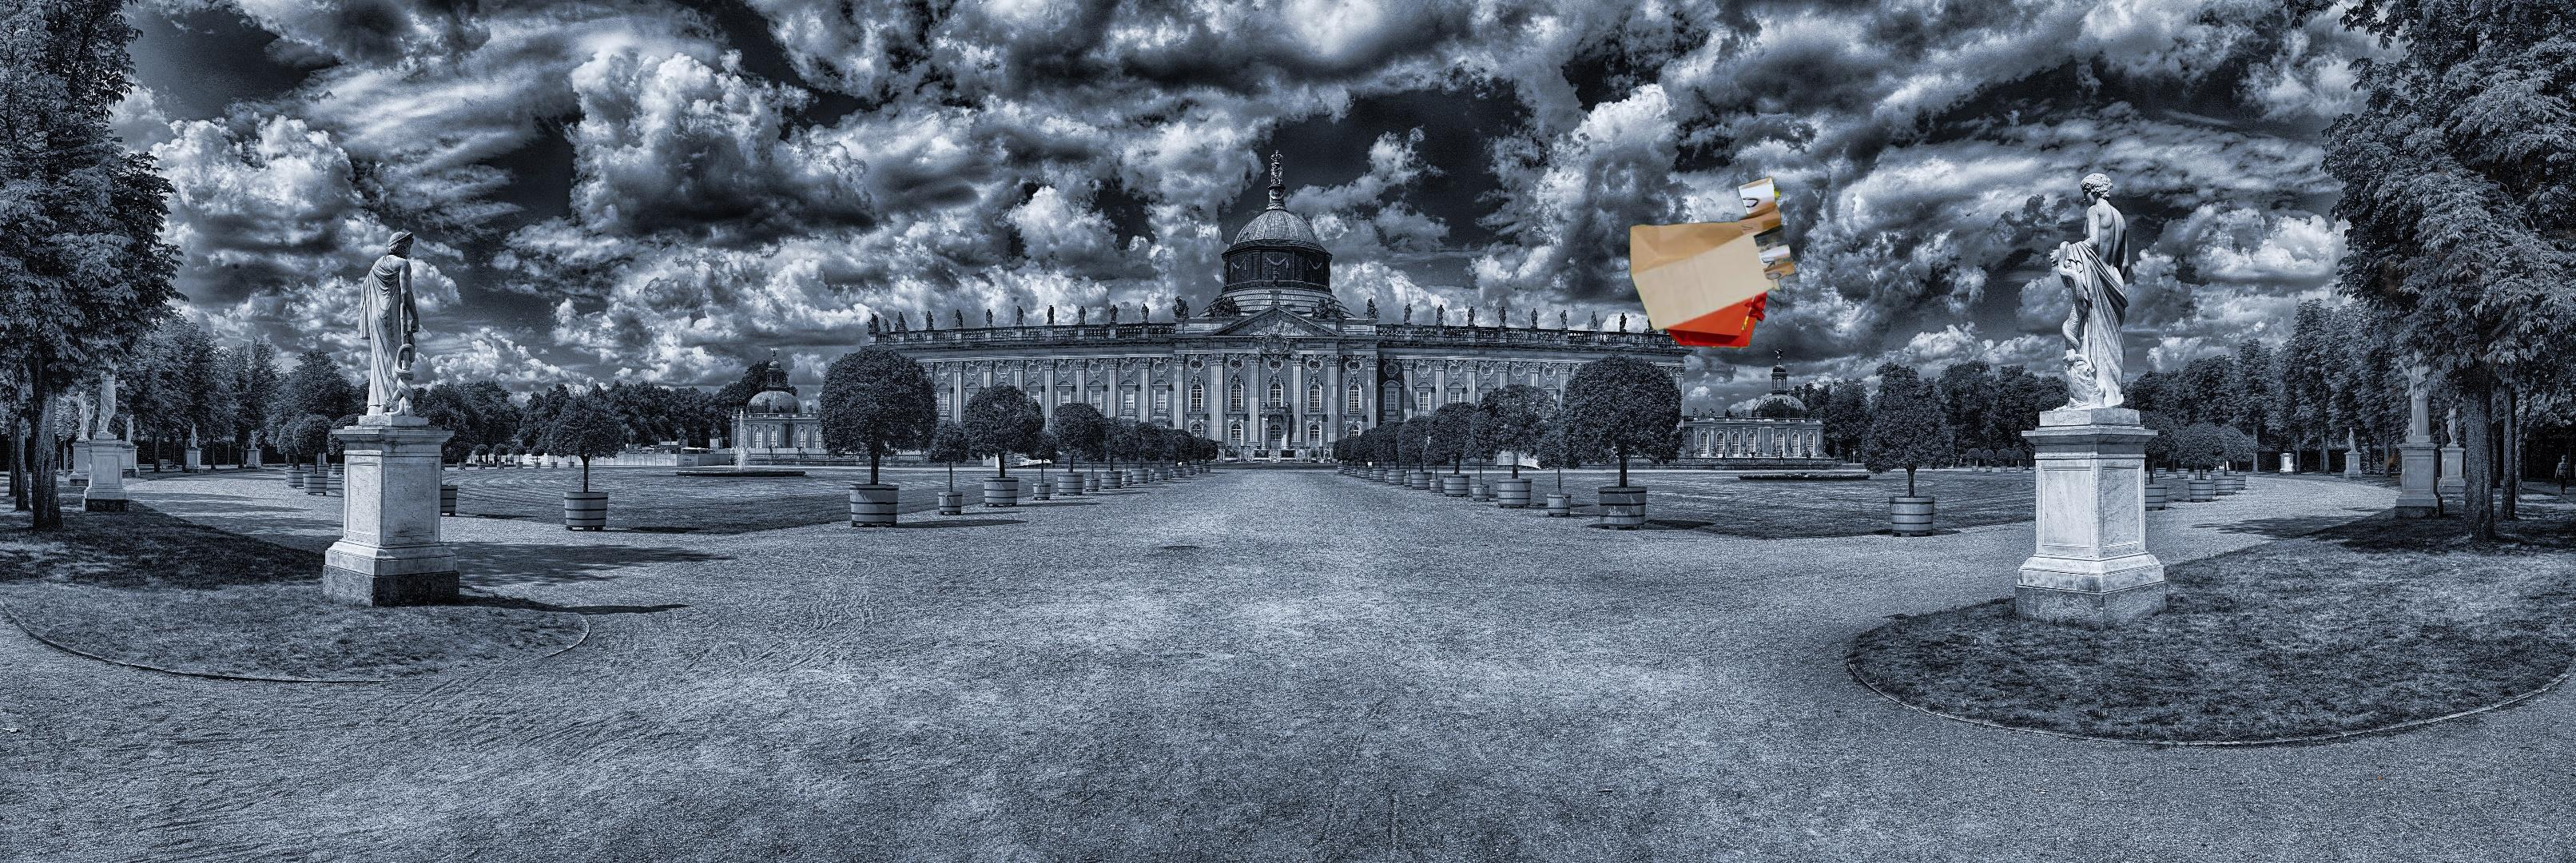biological: (2379, 12, 2576, 779)
paper-bag: (1626, 174, 1835, 362)
